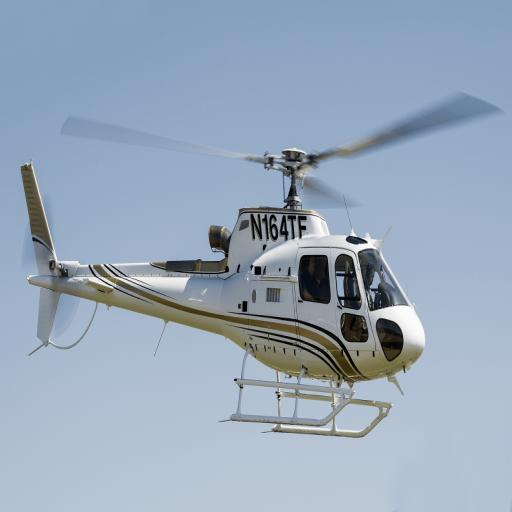helicopter: (23, 117, 502, 459)
